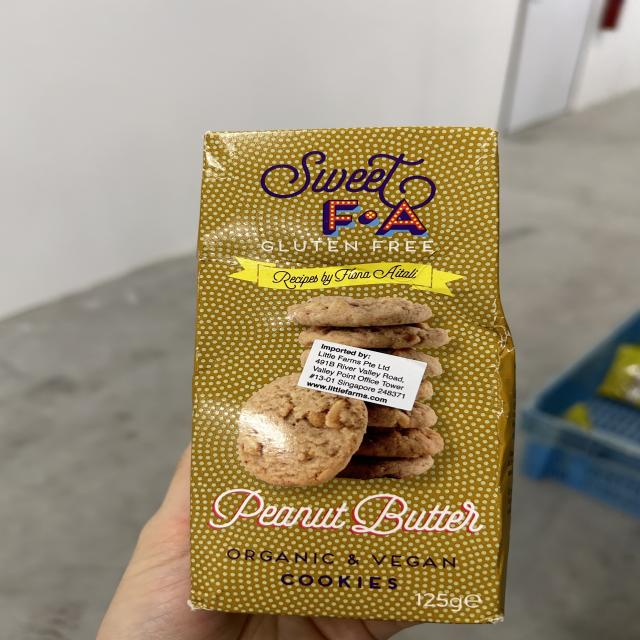object_name: (213, 140, 494, 618)
